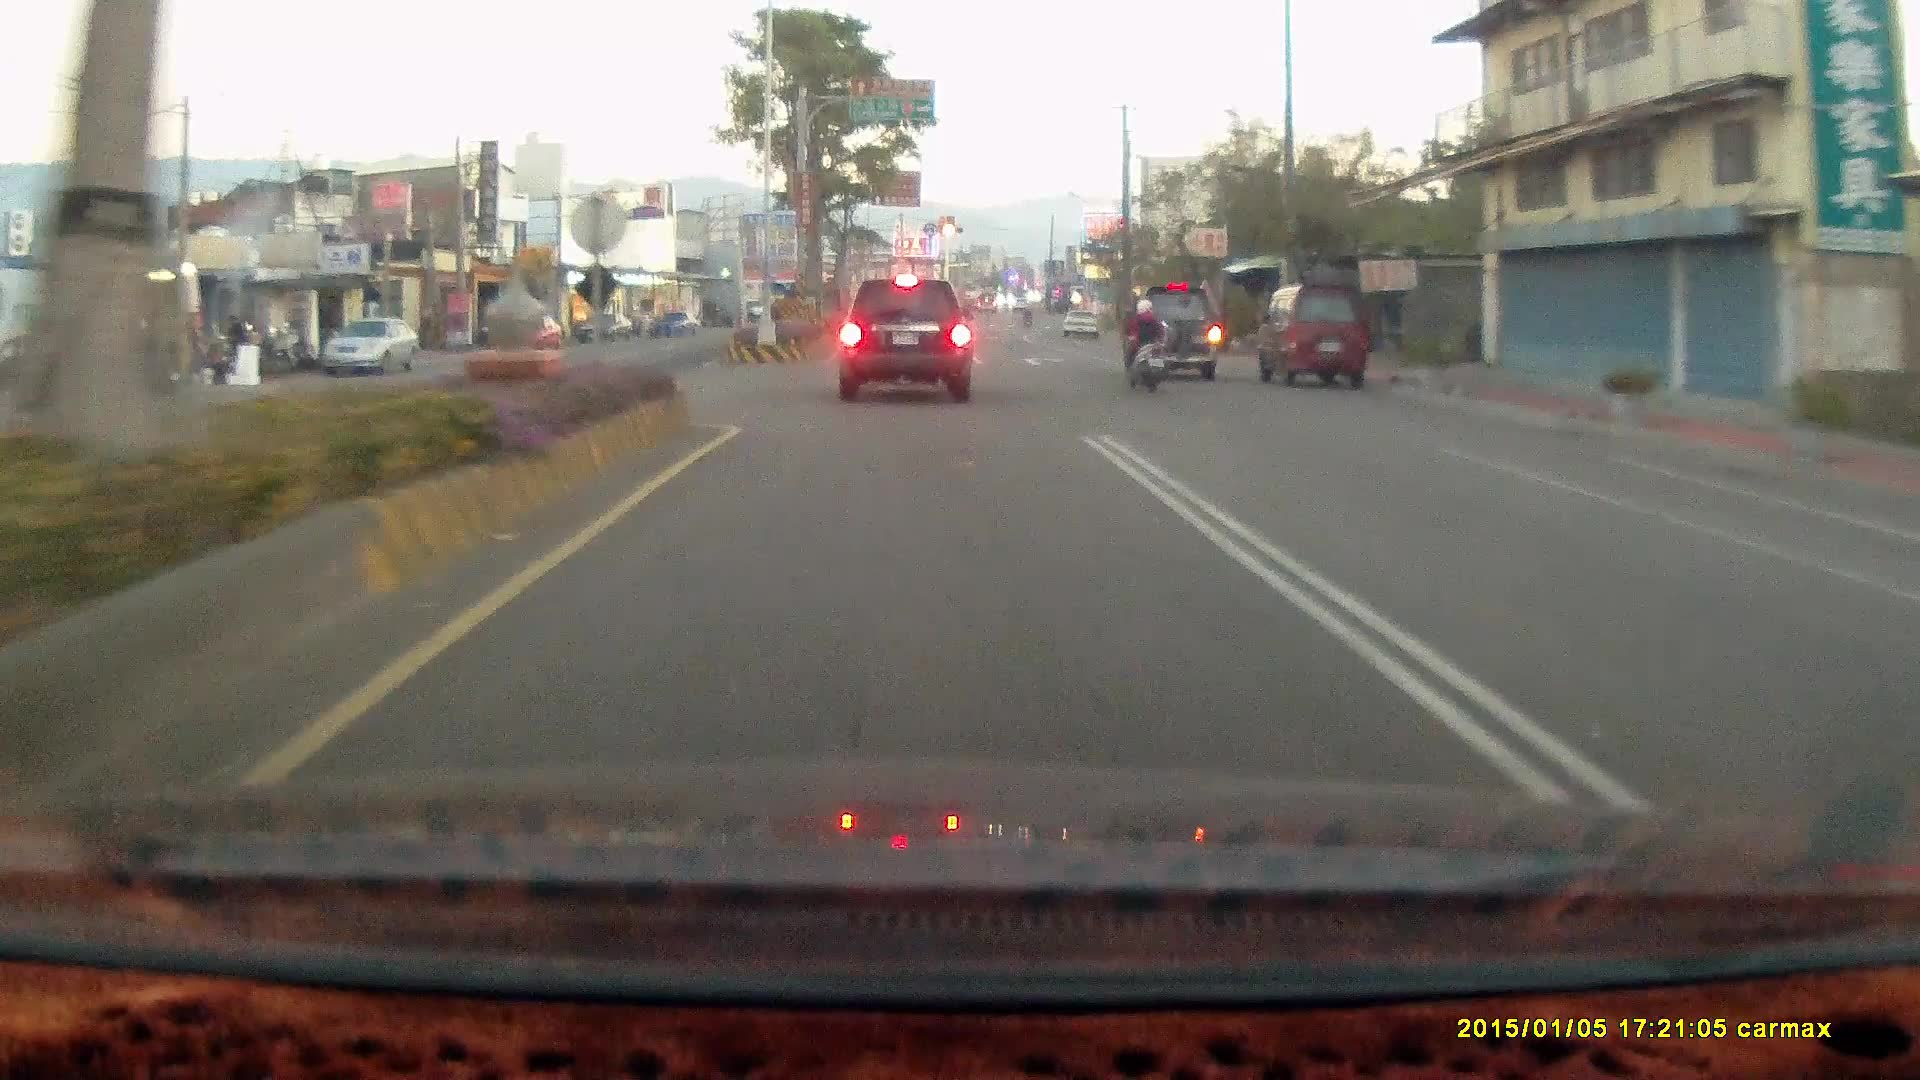pedestrian: (222, 311, 251, 376)
rider: (1120, 295, 1168, 392)
vehicle: (839, 275, 972, 399), (1256, 279, 1368, 389), (1261, 279, 1369, 390), (1129, 280, 1232, 380), (1126, 279, 1224, 379), (1896, 493, 1920, 836), (317, 314, 422, 377), (321, 315, 421, 376), (1883, 528, 1920, 690), (1062, 306, 1099, 336)
